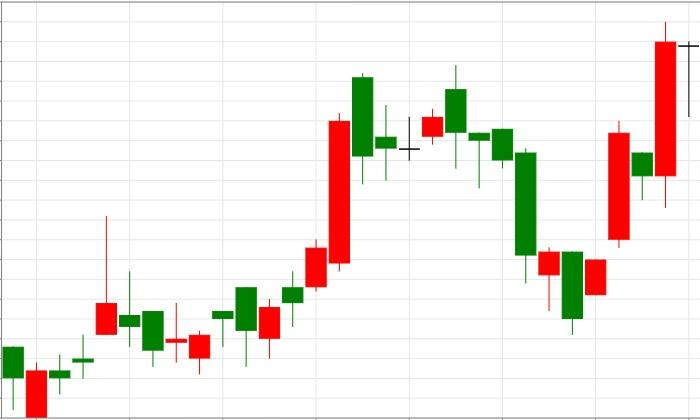shooting_star_fall: (26, 216, 118, 418)
